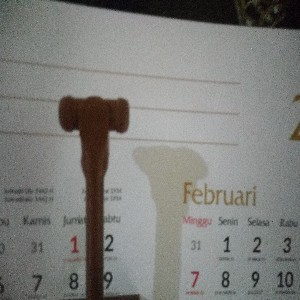palu: (58, 94, 130, 300)
